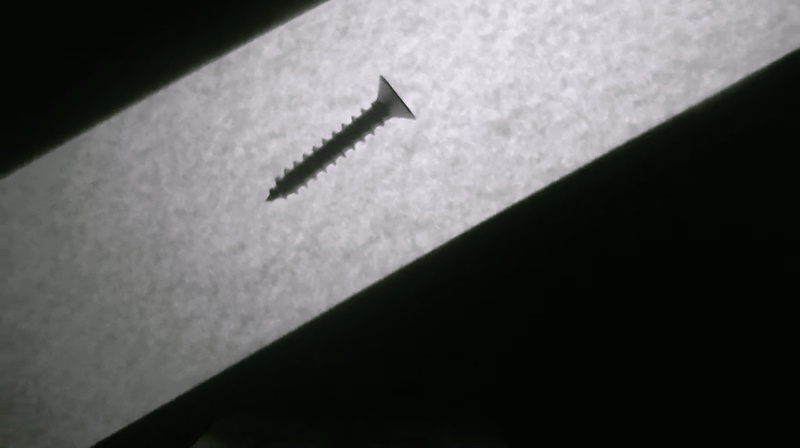S001: (261, 70, 419, 205)
